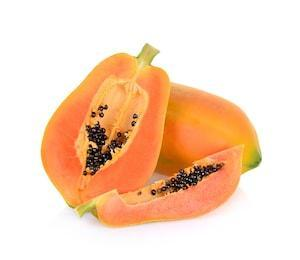papaya: (41, 43, 167, 209), (77, 147, 240, 227)
